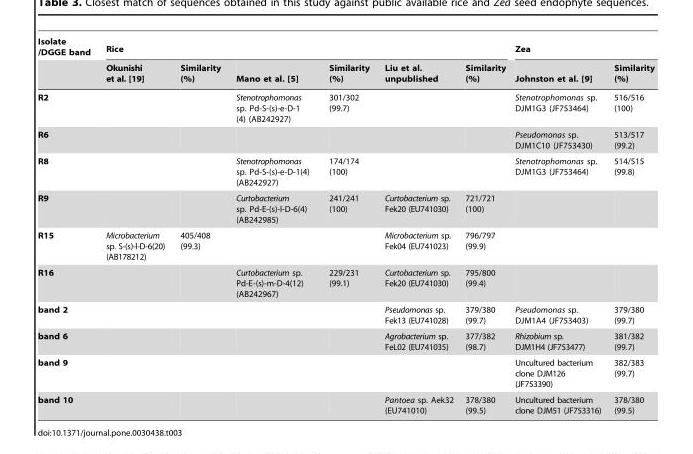table: (37, 36, 653, 414)
table column: (509, 36, 606, 414), (227, 36, 318, 414), (376, 36, 458, 414), (97, 36, 171, 414), (37, 36, 97, 414), (318, 36, 376, 414), (171, 36, 227, 414), (458, 36, 509, 414), (606, 36, 653, 414)
table column header: (37, 36, 653, 87)
table row: (37, 87, 653, 126), (37, 153, 653, 190), (37, 190, 653, 227), (37, 227, 653, 264), (37, 264, 653, 301), (37, 354, 653, 391), (37, 59, 653, 87), (37, 126, 653, 153), (37, 301, 653, 328), (37, 328, 653, 354), (37, 36, 653, 59), (37, 391, 653, 414)
table spanning cell: (97, 36, 509, 59), (509, 36, 653, 59), (37, 36, 97, 87)
